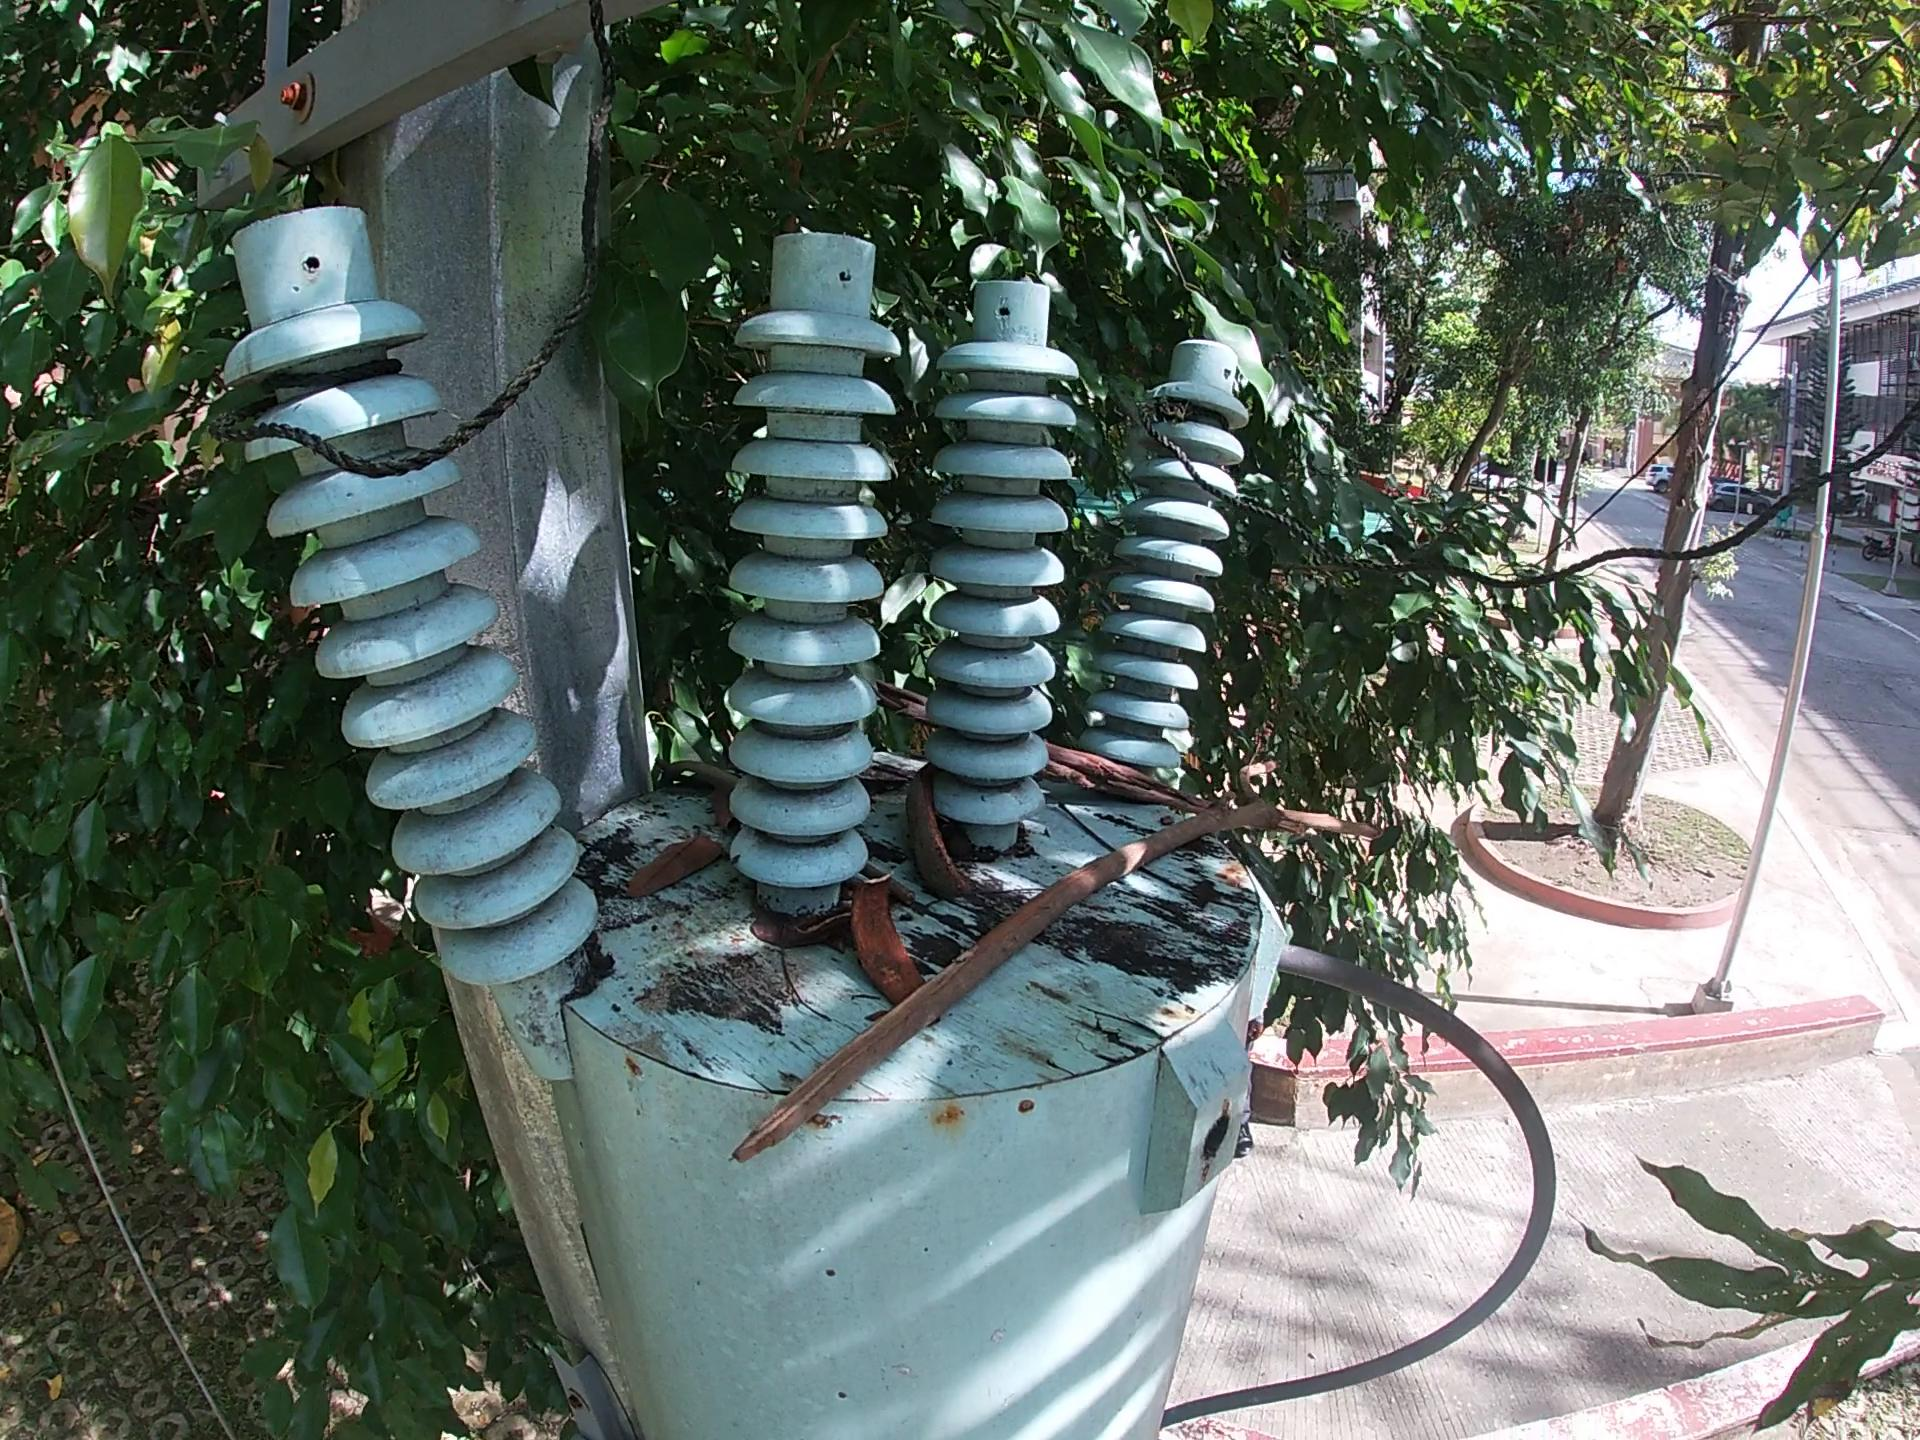leaf: (618, 823, 730, 903), (742, 902, 842, 962), (708, 784, 745, 839)
mahogany fruit: (848, 867, 928, 1010), (901, 759, 975, 903)
tree branch: (732, 759, 1389, 1166), (871, 678, 1222, 818), (649, 753, 742, 796), (863, 865, 924, 906)
